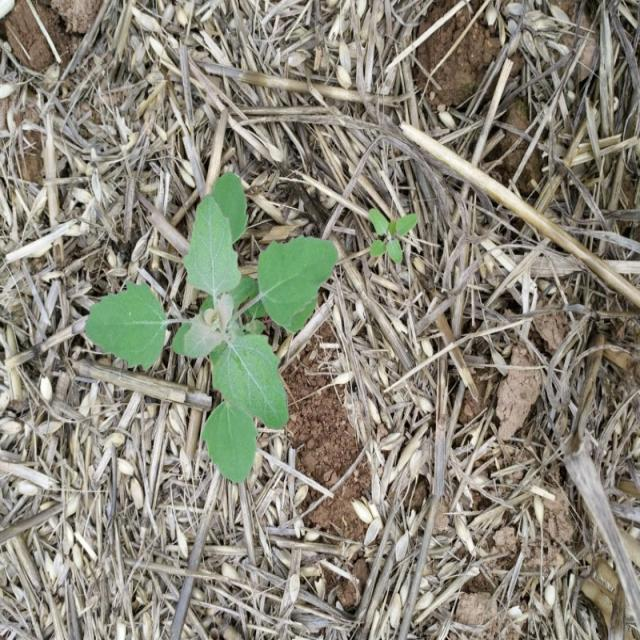ca: (183, 177, 332, 486)
